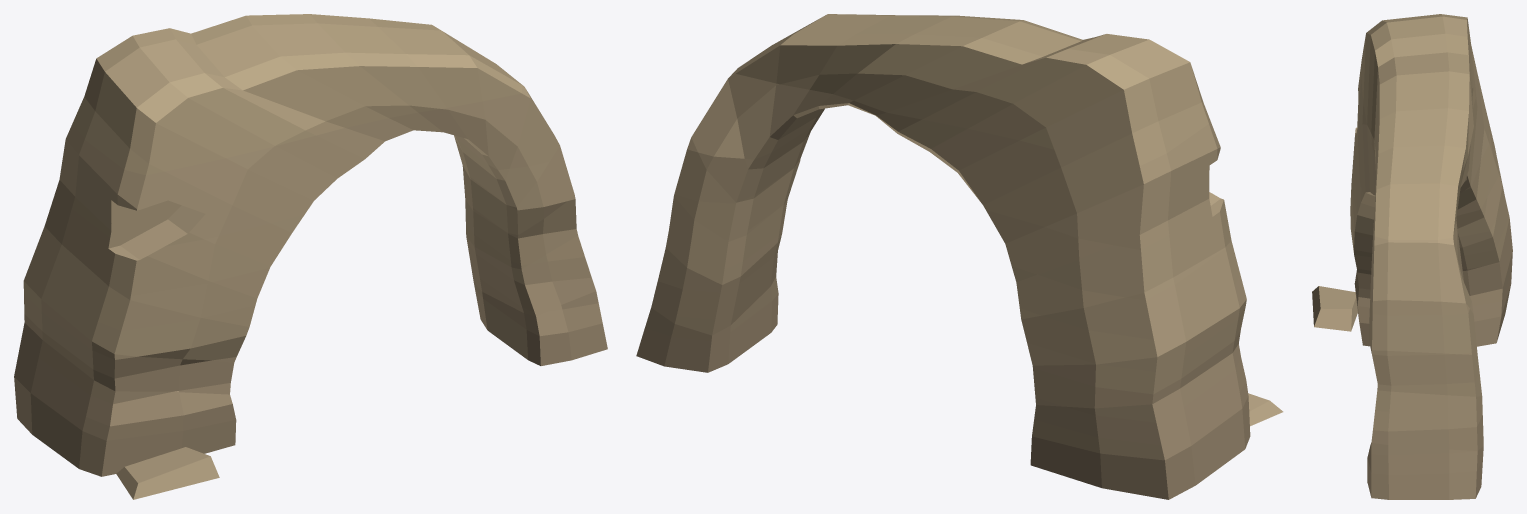
The model's file is natural-arch.glb.
3 renders of one model, left to right at view 1: azimuth 30°, elevation 25°; view 2: azimuth 150°, elevation 25°; view 3: azimuth 270°, elevation 25°, orthographic. The views are drawn at different scales.
Visible parts, largest first — view 1: Continuous_fin_arch_with_unequal_buttresses, Localized_low_shoulder_spall; view 2: Continuous_fin_arch_with_unequal_buttresses; view 3: Continuous_fin_arch_with_unequal_buttresses, Localized_low_shoulder_spall.
Part boxes in pixels (left/top/right/bottom): Continuous_fin_arch_with_unequal_buttresses: left=14, top=14, right=607, bottom=476; Localized_low_shoulder_spall: left=116, top=447, right=219, bottom=499; Continuous_fin_arch_with_unequal_buttresses: left=636, top=14, right=1250, bottom=499; Continuous_fin_arch_with_unequal_buttresses: left=1350, top=14, right=1512, bottom=499; Localized_low_shoulder_spall: left=1312, top=286, right=1357, bottom=331.
Bounding box in the file's own units: 5.26 × 3.59 × 2.11.
